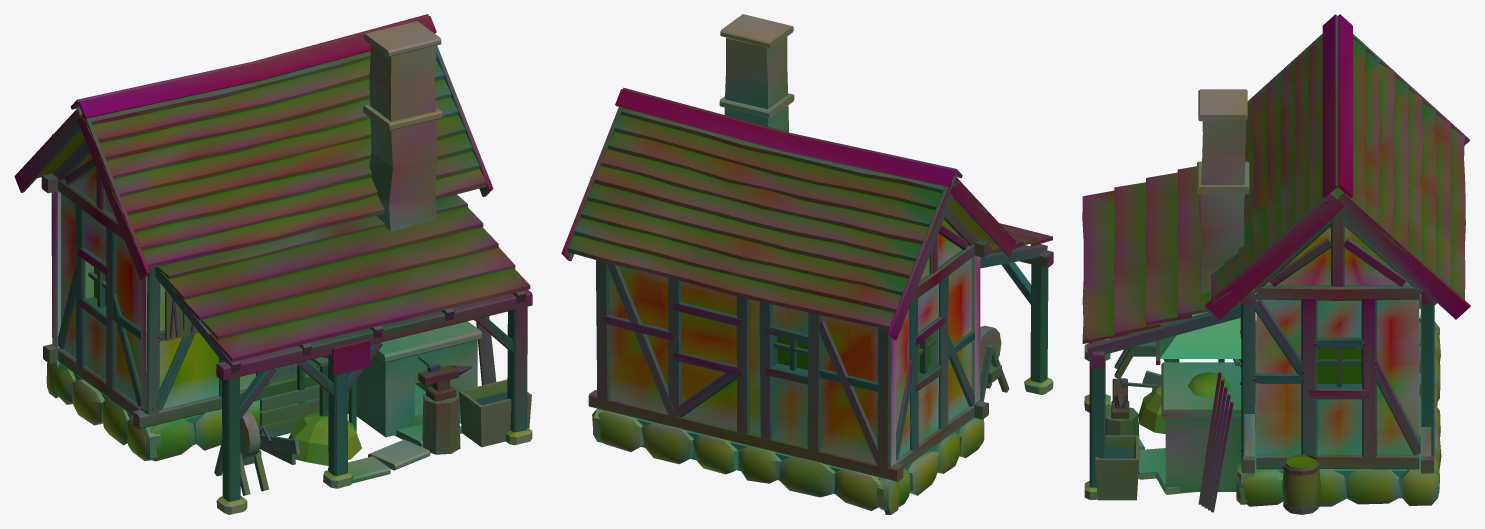
Rendered from blacksmith.glb.
The picture shows the model from 3 angles, left to right: view 1: azimuth 30°, elevation 25°; view 2: azimuth 150°, elevation 25°; view 3: azimuth 270°, elevation 25°; orthographic projection. The views are drawn at different scales.
Parts seen in each view (by area): view 1: blacksmith_LOD0; view 2: blacksmith_LOD0; view 3: blacksmith_LOD0.
Part boxes in pixels (<box>): blacksmith_LOD0: <box>14,14,532,514</box>; blacksmith_LOD0: <box>561,14,1053,514</box>; blacksmith_LOD0: <box>1082,14,1470,514</box>.
Size of what is drawn, in the model's own units: 2.76 by 2.74 by 2.57.
